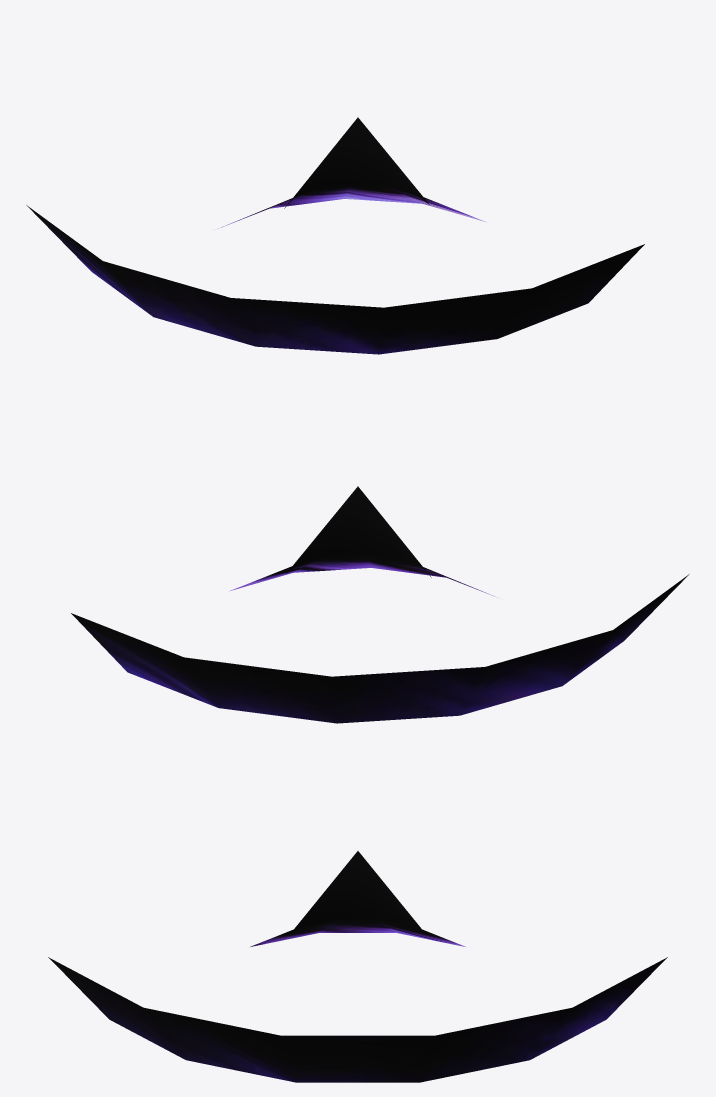
The model's file is warp02.glb.
The picture shows the model from 3 angles, top to bottom: view 1: azimuth 30°, elevation 25°; view 2: azimuth 150°, elevation 25°; view 3: azimuth 270°, elevation 25°; orthographic projection.
Parts seen in each view (by area): view 1: model_warp02; view 2: model_warp02; view 3: model_warp02.
Part boxes in pixels (bbox=[...]): model_warp02: bbox=[26, 117, 644, 354]; model_warp02: bbox=[71, 486, 689, 723]; model_warp02: bbox=[48, 851, 667, 1082].
Size of the model in its own units: 2.37 by 0.6031 by 2.43.
Materials: 1 (1 with a texture image).
